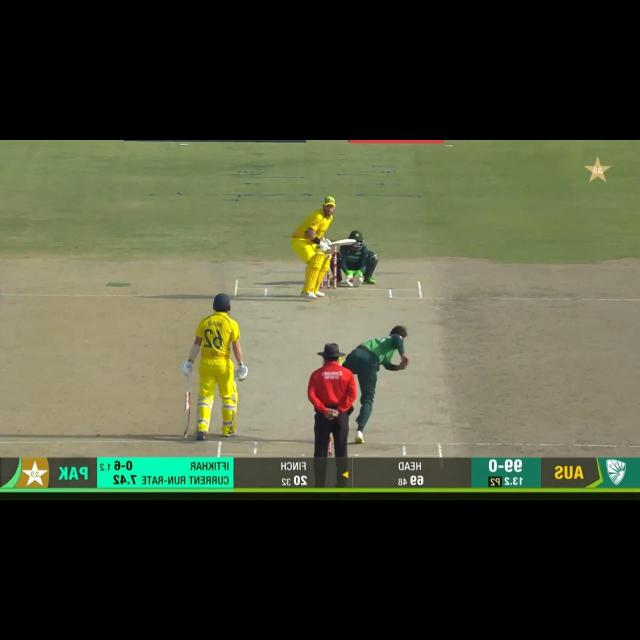bat: (180, 391, 190, 438), (328, 238, 356, 245)
toe: (181, 429, 192, 437), (347, 238, 357, 246)
